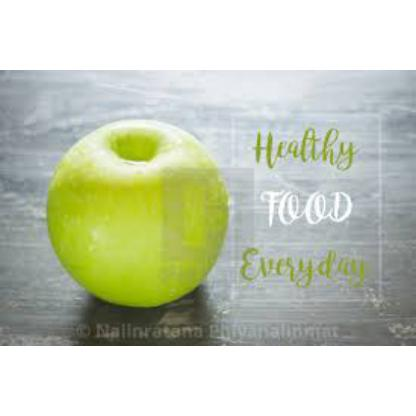apple: (52, 124, 218, 304)
